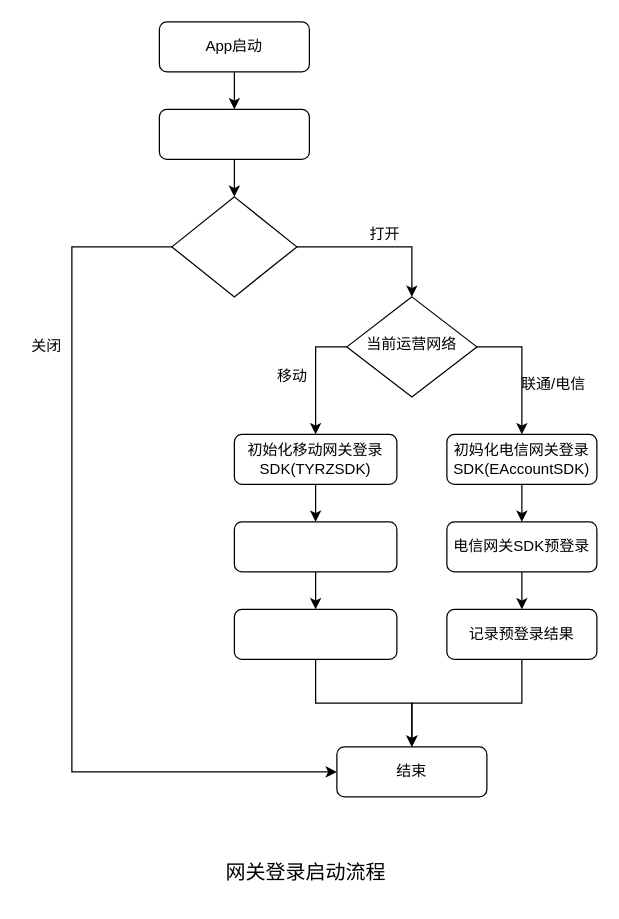
Image size: 619x919. Some labels were removed from this diagram. Each missing label, with the centre of its shape:
"GatewaySwitch" goes at pixel 234 246.
"移动网关SDK预取号" goes at pixel 315 546.
"记录预取号结果（是否成功）" goes at pixel 315 633.
"请求GatewaySwitch查询网关登录开关" goes at pixel 233 133.
